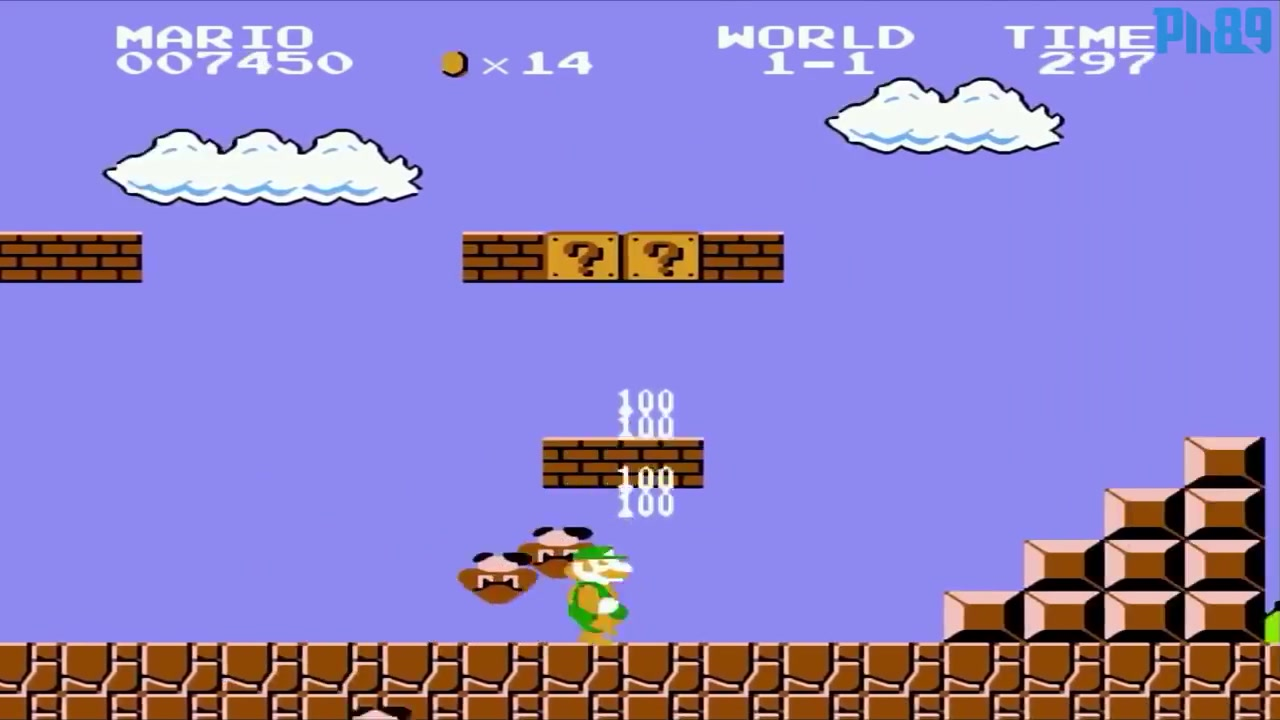mario: (562, 542, 640, 645)
